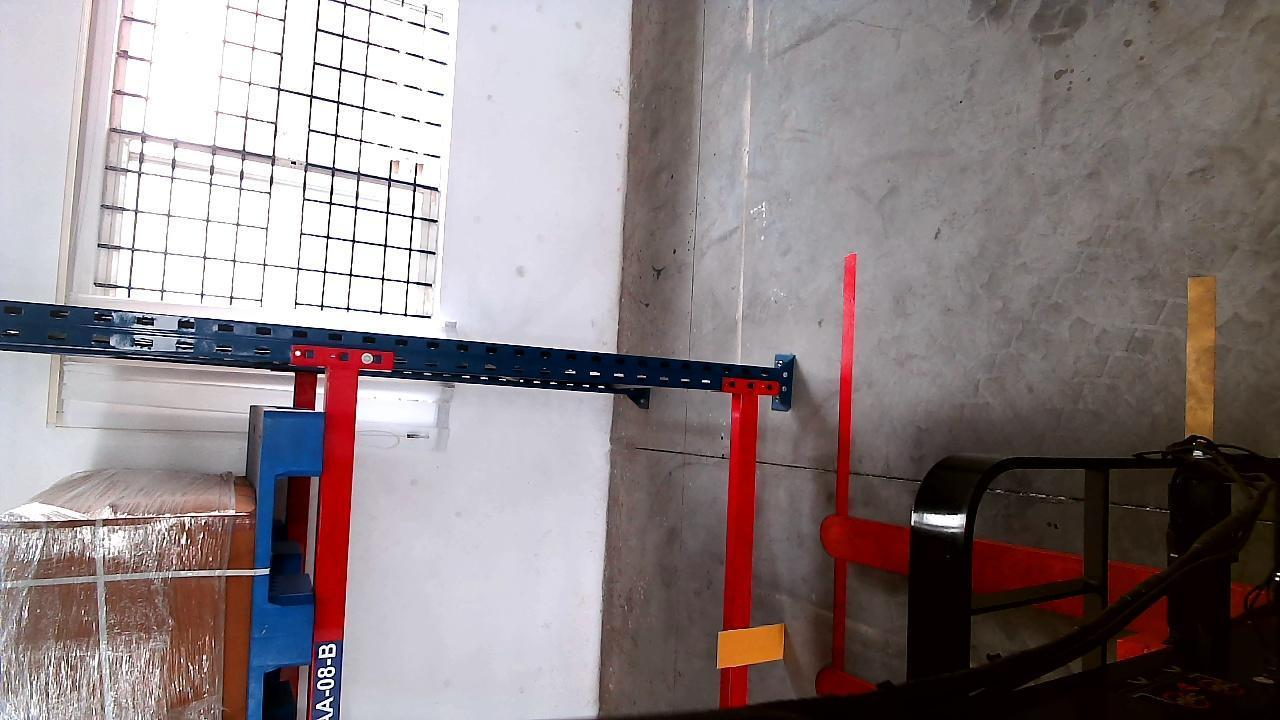h_rack: (310, 368, 359, 720), (725, 388, 756, 707)
orange_strip: (719, 623, 786, 667)
red_line: (830, 251, 864, 672)
small_pallet: (250, 406, 324, 720)
yellow_line: (1186, 273, 1215, 436)
